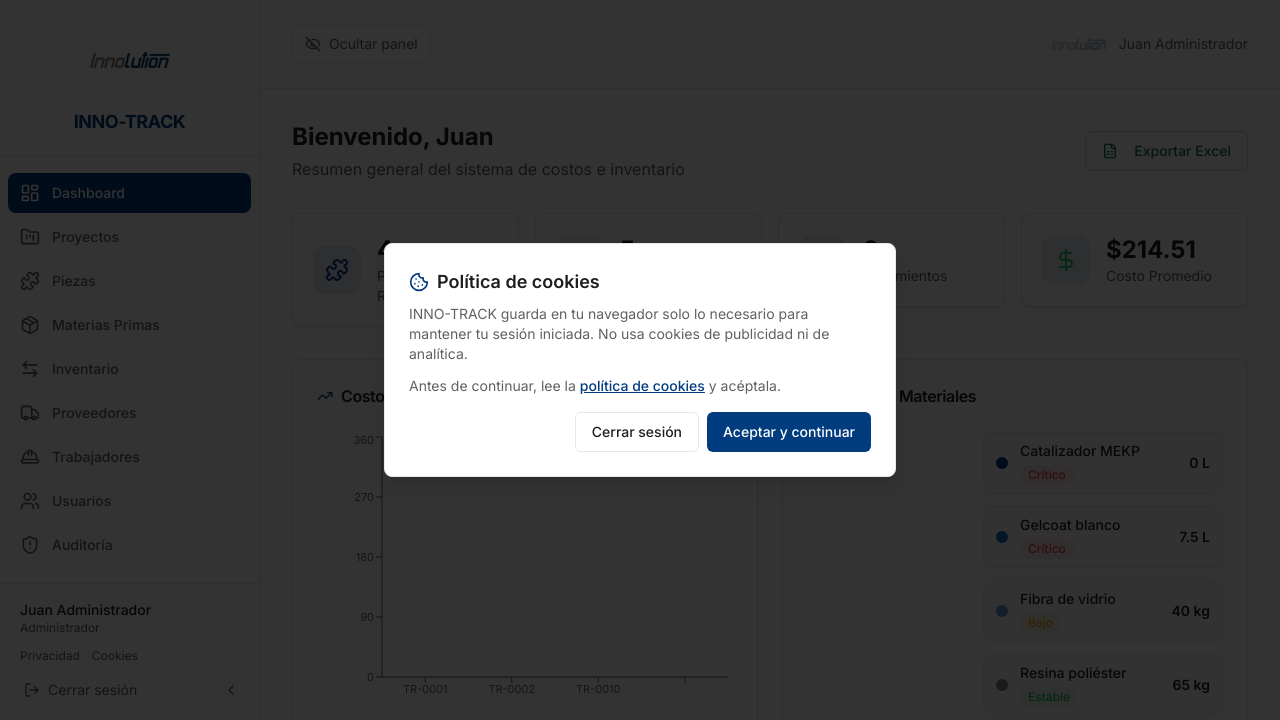
it: Aviso de la política de cookies › muestra el error si no se pudo registrar la aceptación
Click the button "Aceptar y continuar" at (789,432), box [707,412,871,452]
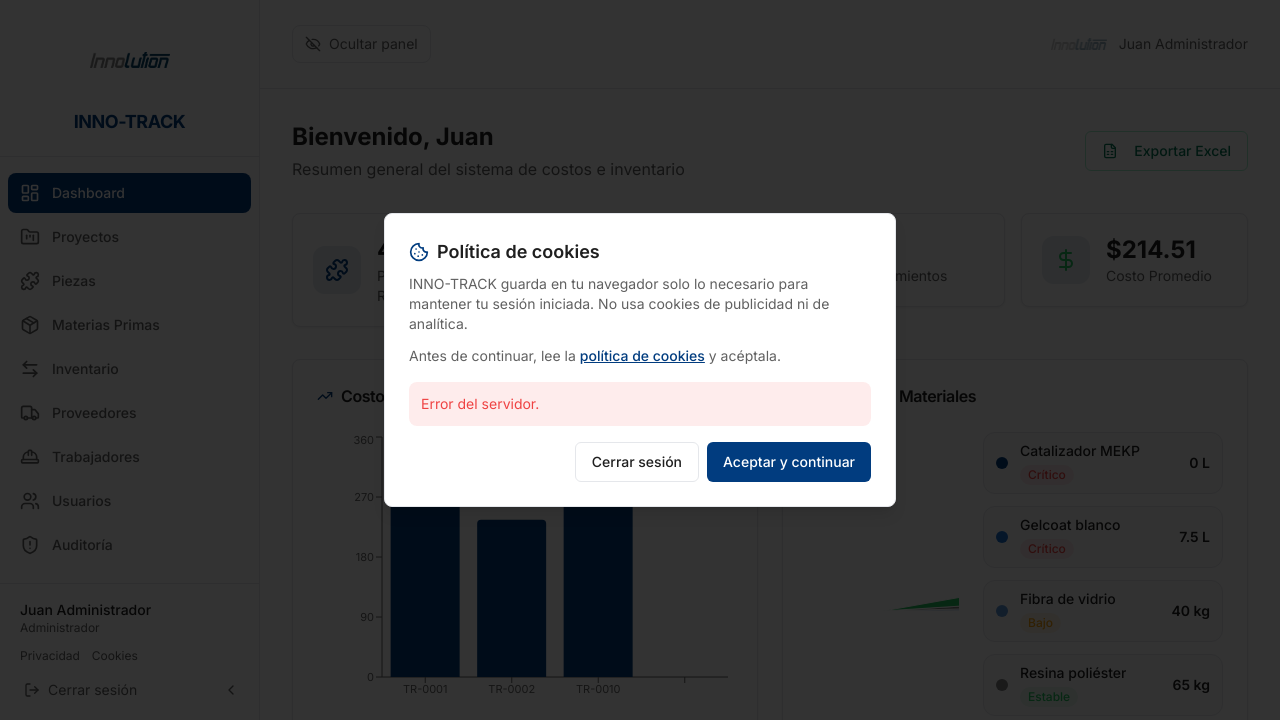
expect the text "Error del servidor." is shown: met, box [409,382,871,426]
